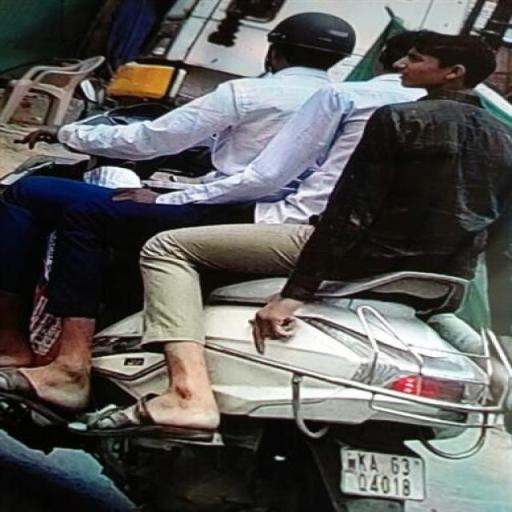tripple riding: (29, 7, 512, 291)
